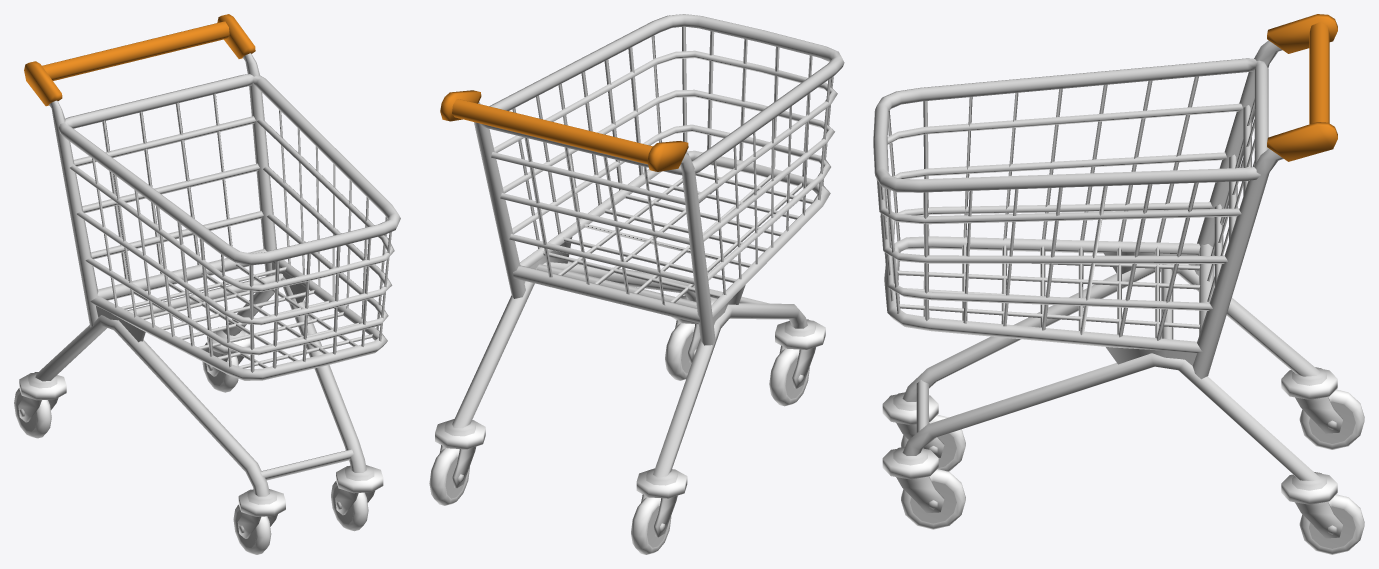
3 views of the same model, side by side, from view 1: azimuth 30°, elevation 25°; view 2: azimuth 150°, elevation 25°; view 3: azimuth 270°, elevation 25° (orthographic). The views are drawn at different scales.
Parts seen in each view (by area): view 1: Einkaufswagen_0; view 2: Einkaufswagen_0; view 3: Einkaufswagen_0.
Part boxes in pixels (x1,y1,x2,y2): Einkaufswagen_0: [14, 14, 400, 554]; Einkaufswagen_0: [429, 14, 844, 554]; Einkaufswagen_0: [873, 14, 1364, 554].
Size of the model in its own units: 0.5602 by 0.8765 by 0.9057.
